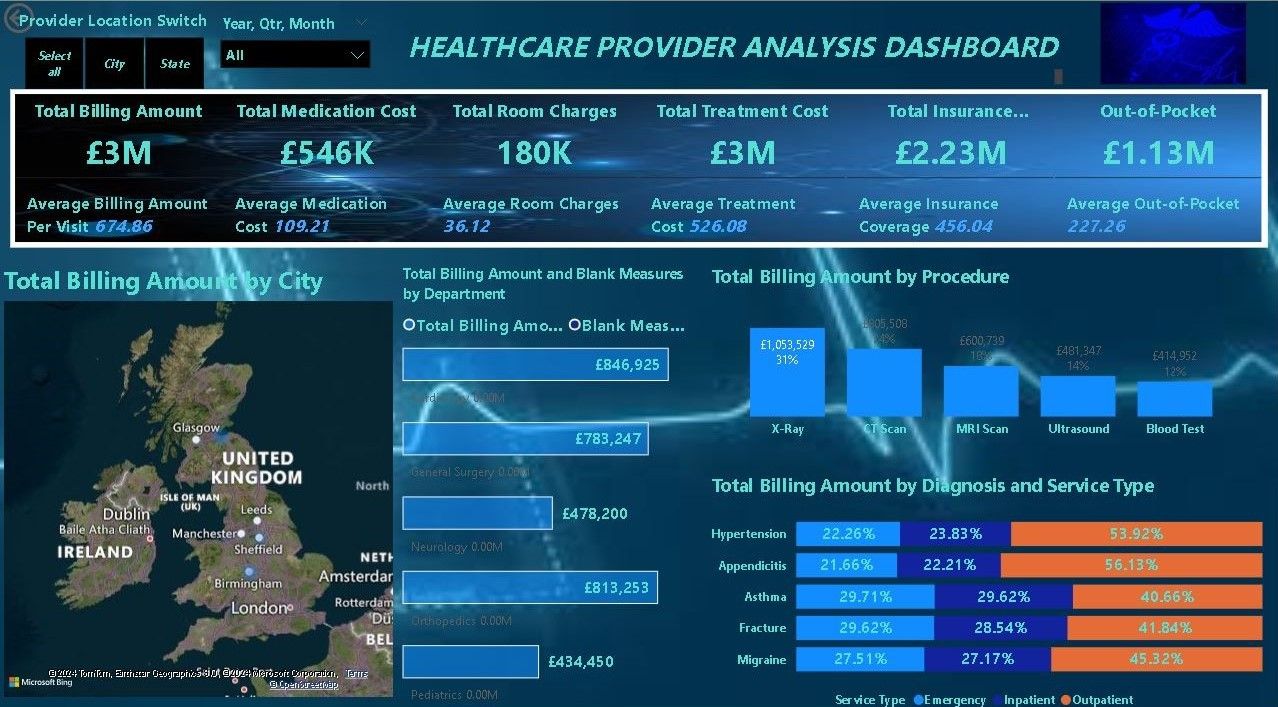

This screenshot's page, from the dashboard's own definition file:
{"tool":"powerbi","page":{"name":"Page 2","canvas":[1280,720],"ordinal":1},"visuals":[{"type":"actionButton","box":[0,0,100,40],"z":1000},{"type":"map","fields":{"Category":["cities.City","cities.State"],"Size":["DAX Calculation.Total Billing Amount"]},"box":[0,265,398.8,438.8],"z":2000},{"type":"slicer","title":"Provider Location Switch","fields":{"Values":["Patients Location Switch.Patients Location Switch"]},"box":[0,10,228.8,87.5],"z":3000},{"type":"columnChart","fields":{"Category":["procedures.Procedure"],"Y":["DAX Calculation.Total Billing Amount"]},"box":[707.5,265,552.5,183.8],"z":4000},{"type":"hundredPercentStackedBarChart","fields":{"Y":["DAX Calculation.Total Billing Amount"],"Category":["diagnoses.Diagnosis"],"Series":["visits.Service Type"]},"box":[707.5,473.8,561.2,246.2],"z":5000},{"type":"clusteredBarChart","fields":{"Category":["departments.Department"],"Y":["DAX Calculation.Total Billing Amount","DAX Calculation.Blank Measures"]},"box":[398.8,265,308.8,455],"z":6000},{"type":"slicer","fields":{"Values":["Date Table.Year","Date Table.Qtr","Date Table.Month"]},"box":[211.2,10,170,100],"z":7000},{"type":"cardVisual","fields":{"Data":["DAX Calculation.Total Billing Amount","DAX Calculation.Total Medication Cost","DAX Calculation.Total Room Charges","DAX Calculation.Total Treatment Cost","DAX Calculation.Total Insurance Coverage","DAX Calculation.Out-of-Pocket"]},"box":[11.2,91.2,1257.5,158.8],"z":8000},{"type":"image","box":[1068.8,0,211.2,91.2],"z":9000},{"type":"textbox","title":"HEALTHCARE PROVIDER ANALYSIS DASHBOARD","box":[398.8,28.8,670,62.5],"z":9001}]}

Visuals, with their boxes on the page's 1280x720 design canvas (x1, y1, x2, y2). These are canvas units, not pixel positions in the 1278x707 screenshot, which may show the page scaled, cropped or inside an application window:
actionButton: Rect(0, 0, 100, 40)
map - cities.City x cities.State: Rect(0, 265, 399, 704)
"Provider Location Switch" slicer: Rect(0, 10, 229, 98)
columnChart - procedures.Procedure x DAX Calculation.Total Billing Amount: Rect(708, 265, 1260, 449)
hundredPercentStackedBarChart - DAX Calculation.Total Billing Amount x diagnoses.Diagnosis: Rect(708, 474, 1269, 720)
clusteredBarChart - departments.Department x DAX Calculation.Total Billing Amount: Rect(399, 265, 708, 720)
slicer - Date Table.Year x Date Table.Qtr: Rect(211, 10, 381, 110)
cardVisual - DAX Calculation.Total Billing Amount x DAX Calculation.Total Medication Cost: Rect(11, 91, 1269, 250)
image: Rect(1069, 0, 1280, 91)
"HEALTHCARE PROVIDER ANALYSIS DASHBOARD" textbox: Rect(399, 29, 1069, 91)
